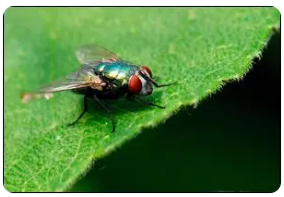liriomyza: (29, 44, 164, 132)
